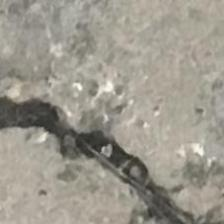Crack: (0, 78, 221, 224)
